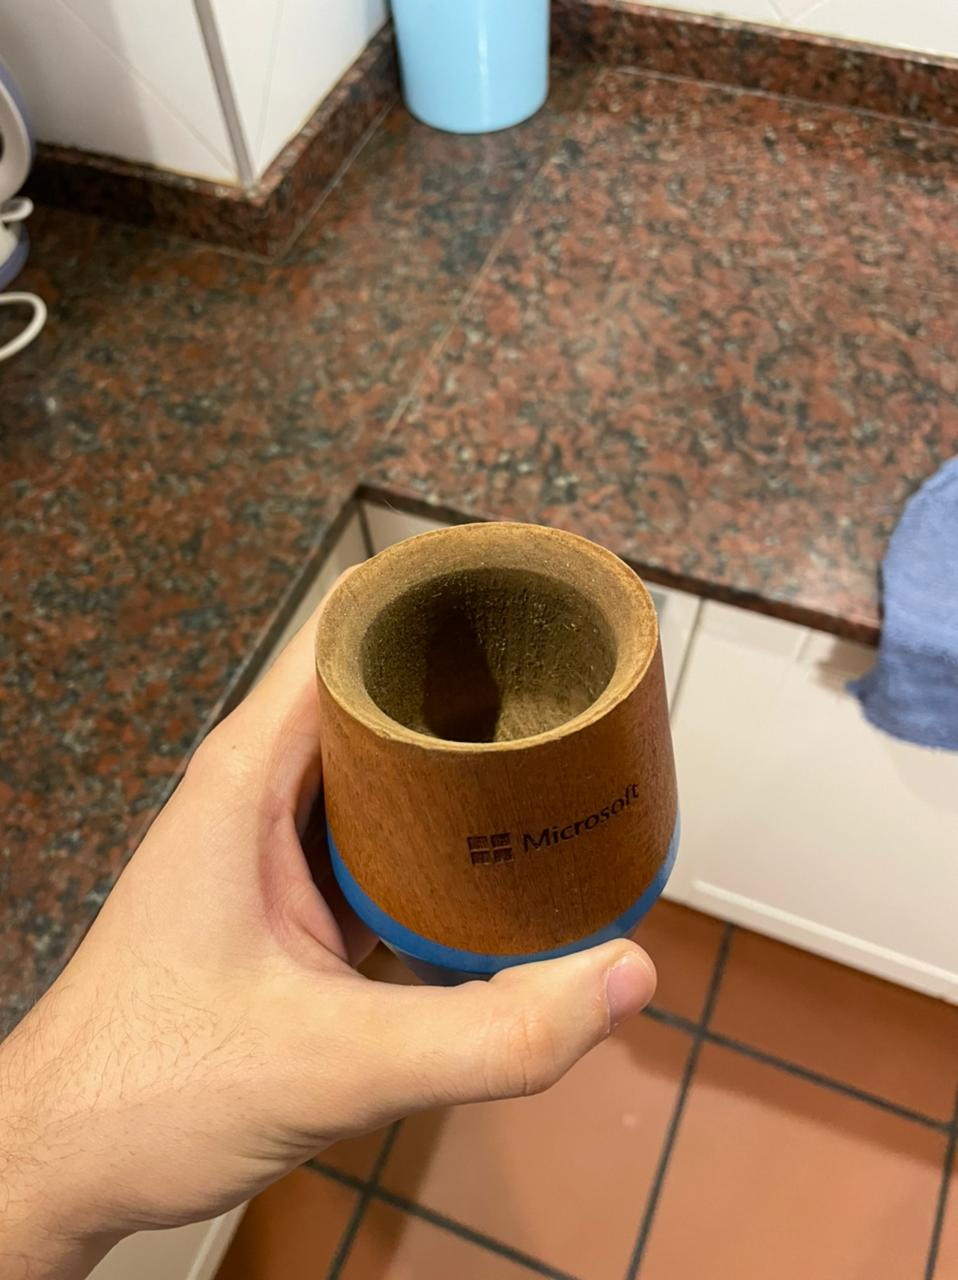madera: (300, 506, 724, 1010)
mate: (302, 508, 726, 1012)
